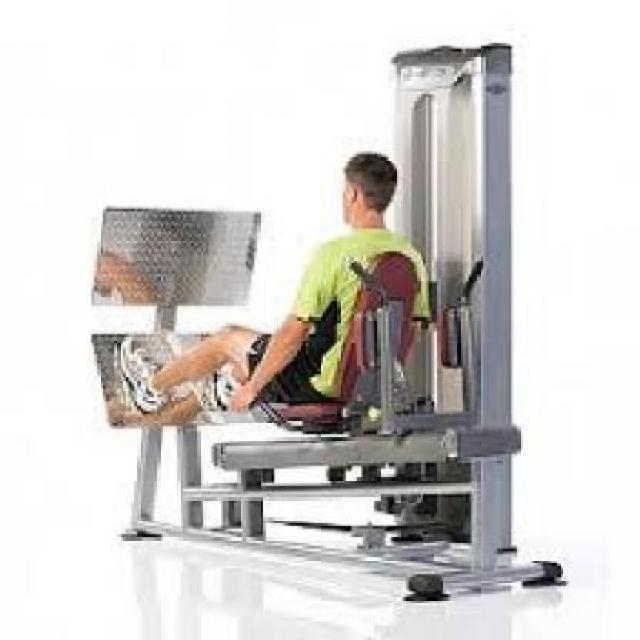leg press: (62, 37, 590, 626)
